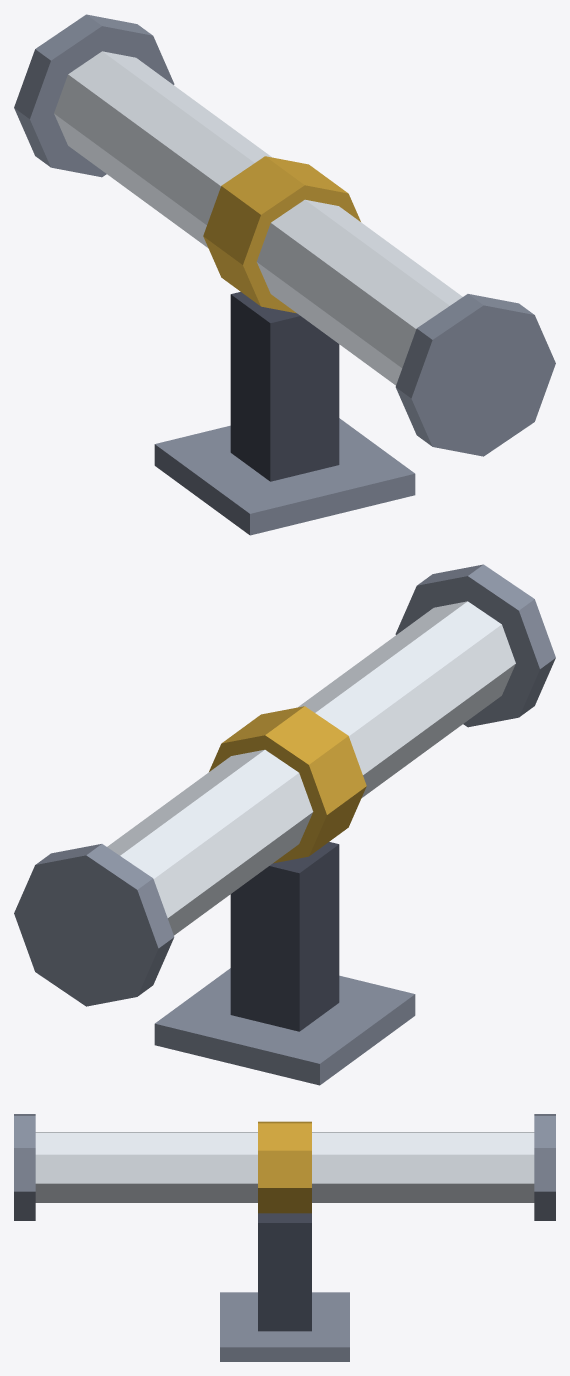
File: steam-pipe-straight.glb
3 views of the same model, one above another, from view 1: azimuth 30°, elevation 25°; view 2: azimuth 150°, elevation 25°; view 3: azimuth 270°, elevation 25° (orthographic). The views are drawn at different scales.
Visible parts, largest first — view 1: steam-pipe-straight; view 2: steam-pipe-straight; view 3: steam-pipe-straight.
Boxes of the visible parts, x1=… form: steam-pipe-straight: x1=14, y1=14, x2=555, y2=535; steam-pipe-straight: x1=14, y1=564, x2=555, y2=1085; steam-pipe-straight: x1=14, y1=1114, x2=555, y2=1361.
Bounding box in the file's own units: 0.24 × 0.445 × 1.
Materials: 1 (1 with a texture image).
